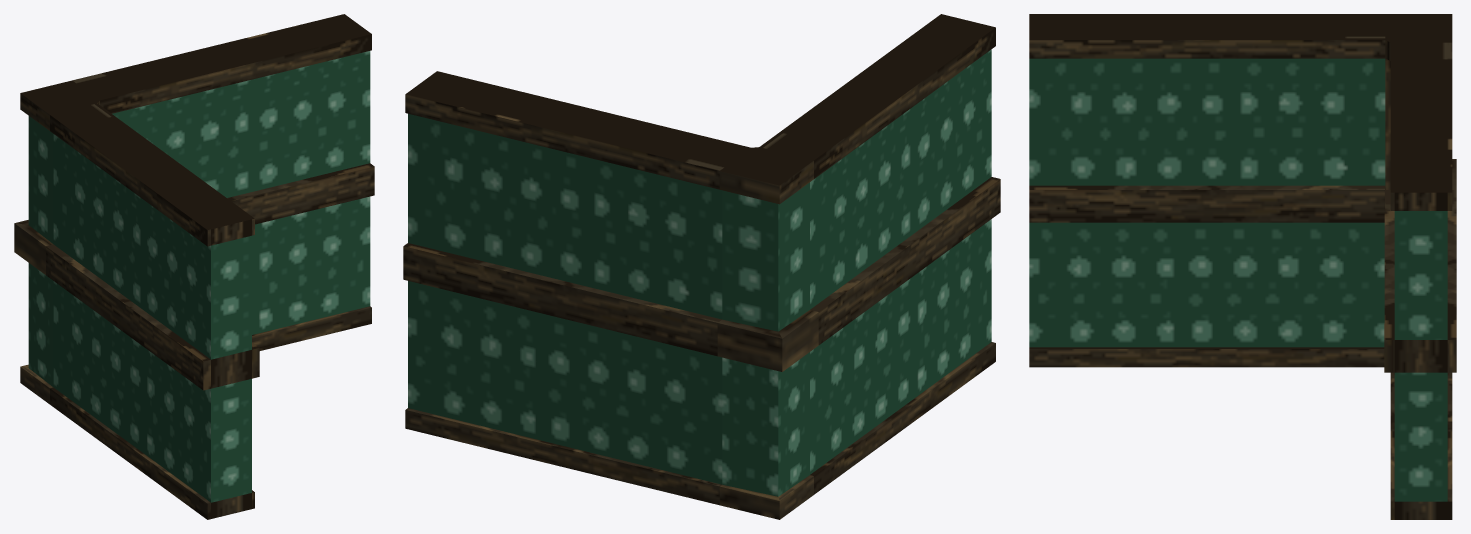
File: Wall_Corner_Piece_Style_1_V5.fbx
The picture shows the model from 3 angles, left to right: view 1: azimuth 30°, elevation 25°; view 2: azimuth 150°, elevation 25°; view 3: azimuth 270°, elevation 25°; orthographic projection. The views are drawn at different scales.
Parts seen in each view (by area): view 1: Wall Style 1 Corner Piece_V2.001; view 2: Wall Style 1 Corner Piece_V2.001; view 3: Wall Style 1 Corner Piece_V2.001.
Part boxes in pixels (bbox=[...]): Wall Style 1 Corner Piece_V2.001: bbox=[14, 14, 374, 519]; Wall Style 1 Corner Piece_V2.001: bbox=[403, 14, 1000, 519]; Wall Style 1 Corner Piece_V2.001: bbox=[1029, 14, 1456, 519].
Bounding box in the file's own units: 119 × 100 × 118.
